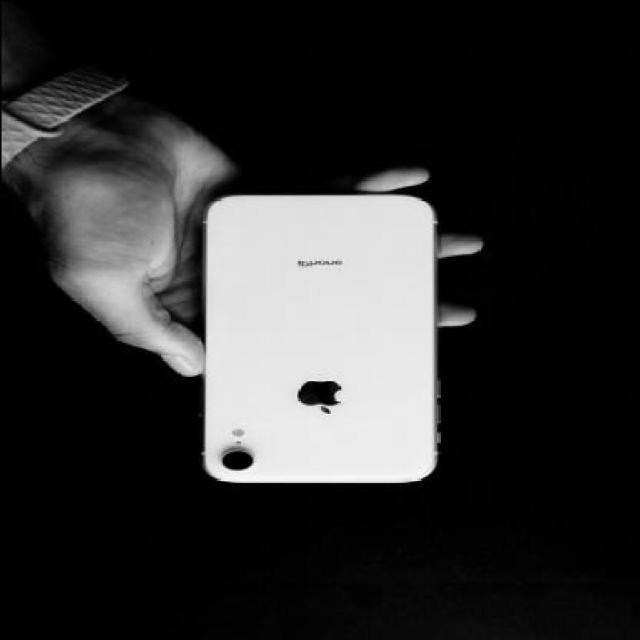fake: (198, 193, 434, 487)
